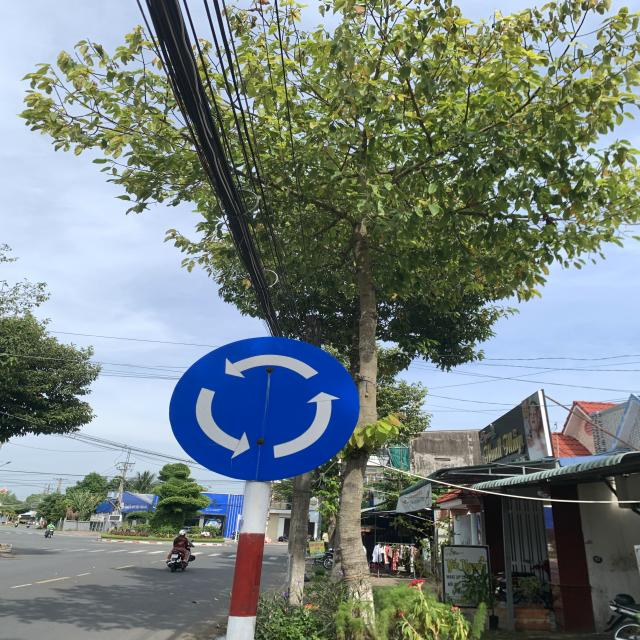Xe_Bus: (168, 336, 360, 478)
